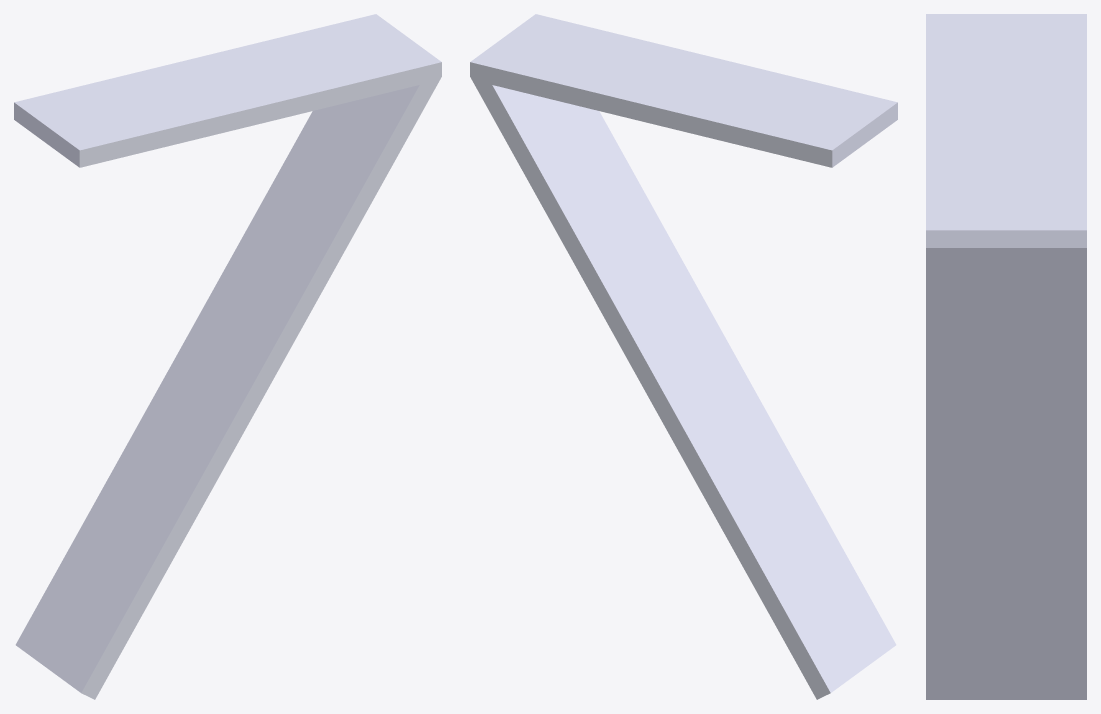
3 views of the same model, side by side, from view 1: azimuth 30°, elevation 25°; view 2: azimuth 150°, elevation 25°; view 3: azimuth 270°, elevation 25° (orthographic). The views are drawn at different scales.
Visible parts, largest first — view 1: 7_AlphaProta_Grey; view 2: 7_AlphaProta_Grey; view 3: 7_AlphaProta_Grey.
Boxes of the visible parts, x1=… form: 7_AlphaProta_Grey: x1=14, y1=14, x2=441, y2=699; 7_AlphaProta_Grey: x1=470, y1=14, x2=897, y2=699; 7_AlphaProta_Grey: x1=926, y1=14, x2=1086, y2=699.
Size of what is drawn, in the model's own units: 0.1431 by 0.2089 by 0.045.
Materials: 2 (2 with a texture image).
